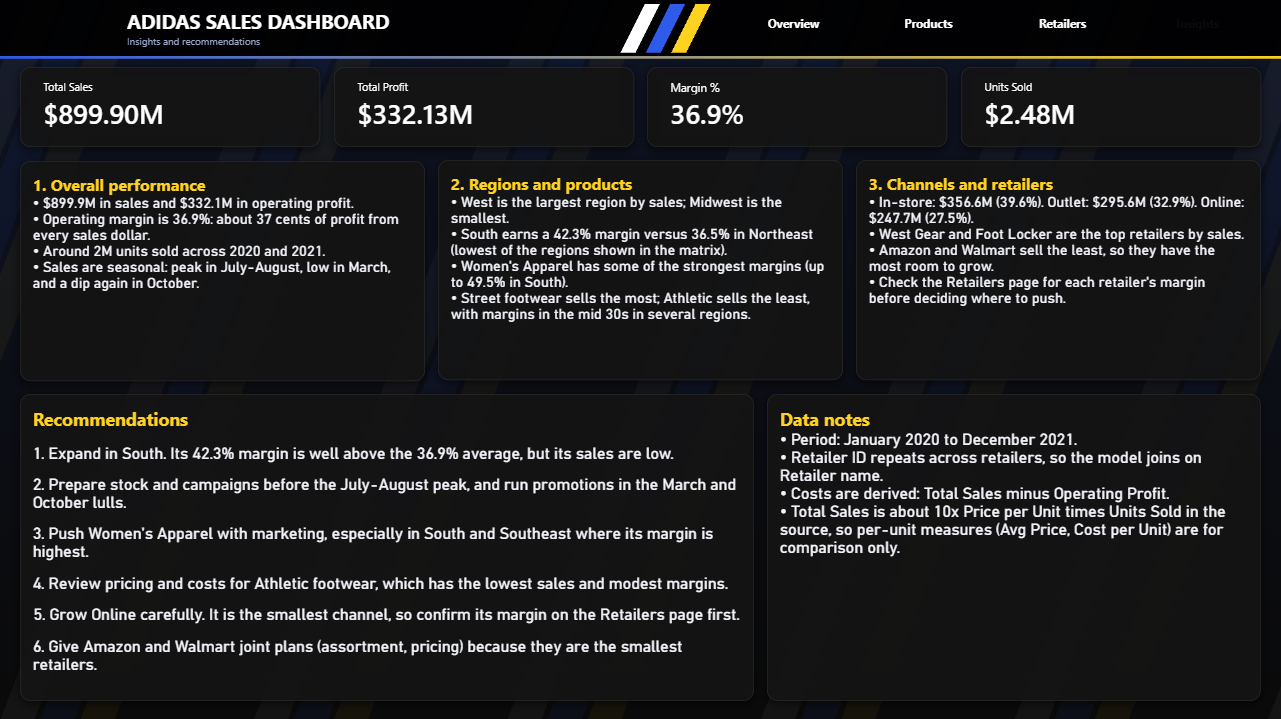

The dashboard page shown, as its layout file describes it:
{"tool":"powerbi","page":{"name":"Insights","canvas":[1920,1080],"ordinal":3},"visuals":[{"type":"cardVisual","fields":{"Data":["_Measures.Total Sales"]},"box":[30,100,450,120],"z":0},{"type":"cardVisual","fields":{"Data":["_Measures.Total Profit"]},"box":[500,100,450,120],"z":1000},{"type":"cardVisual","fields":{"Data":["_Measures.Margin %"]},"box":[970,100,450,120],"z":2000},{"type":"cardVisual","fields":{"Data":["_Measures.Units Sold"]},"box":[1440,100,450,120],"z":3000},{"type":"textbox","box":[30.6,240.7,606.7,330],"z":4000},{"type":"textbox","box":[656.7,240,606.7,330],"z":5000},{"type":"textbox","box":[1283.3,240,606.7,330],"z":6000},{"type":"textbox","box":[30,590,1100,460],"z":7000},{"type":"textbox","box":[1150,590,740,460],"z":8000},{"type":"textbox","box":[190,12,720,62],"z":9000},{"type":"pageNavigator","box":[1104.4,17.5,800,50],"z":15001}]}

Visuals, with their boxes in screenshot pixels (x1, y1, x2, y2), scaled from the page's 1920x1080 canvas onto the 1281x719 screenshot:
cardVisual - _Measures.Total Sales: x1=20 y1=67 x2=320 y2=146
cardVisual - _Measures.Total Profit: x1=334 y1=67 x2=634 y2=146
cardVisual - _Measures.Margin %: x1=647 y1=67 x2=947 y2=146
cardVisual - _Measures.Units Sold: x1=961 y1=67 x2=1261 y2=146
textbox: x1=20 y1=160 x2=425 y2=380
textbox: x1=438 y1=160 x2=843 y2=379
textbox: x1=856 y1=160 x2=1261 y2=379
textbox: x1=20 y1=393 x2=754 y2=699
textbox: x1=767 y1=393 x2=1261 y2=699
textbox: x1=127 y1=8 x2=607 y2=49
pageNavigator: x1=737 y1=12 x2=1271 y2=45
